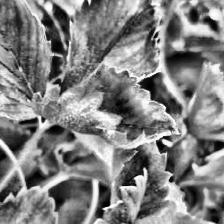Powdery Mildew Leaf: (31, 63, 180, 150)
